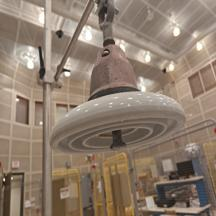insulator: (46, 41, 192, 160)
